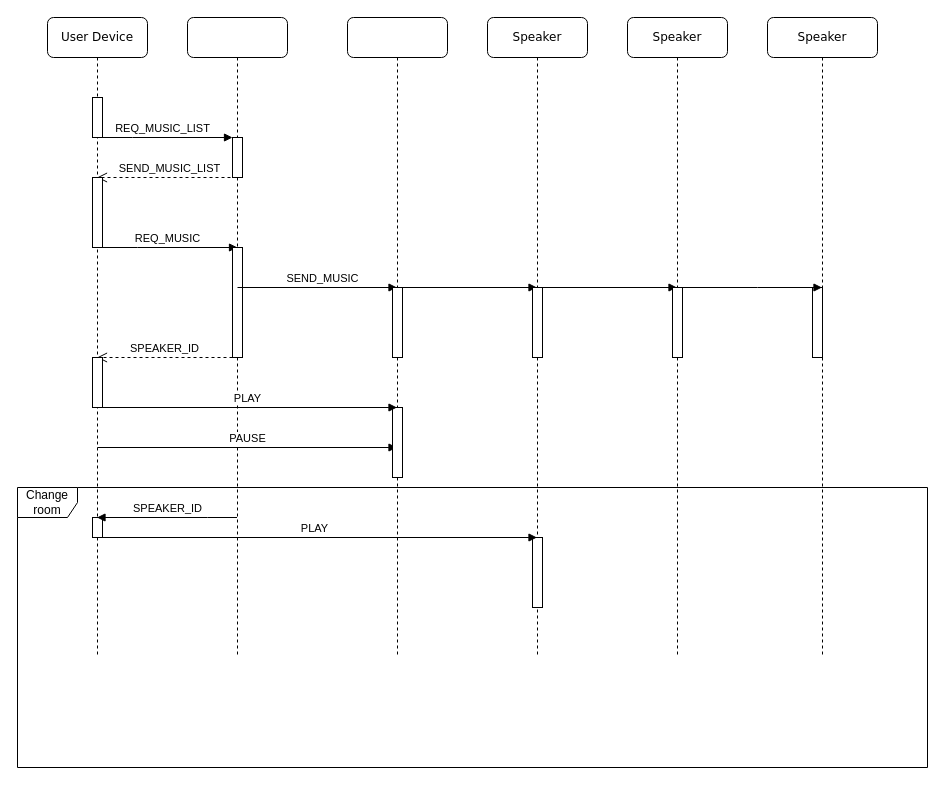
The diagram is 945 pixels wide and 785 high, and some of its shapes have lost their labels. The shapes that lost their labels are listed below. From the top down, each one's box as (x1, y1, x2, y2) in pixels, then its label:
(186, 16, 288, 658): SLAC
(346, 16, 448, 658): Closest speaker
